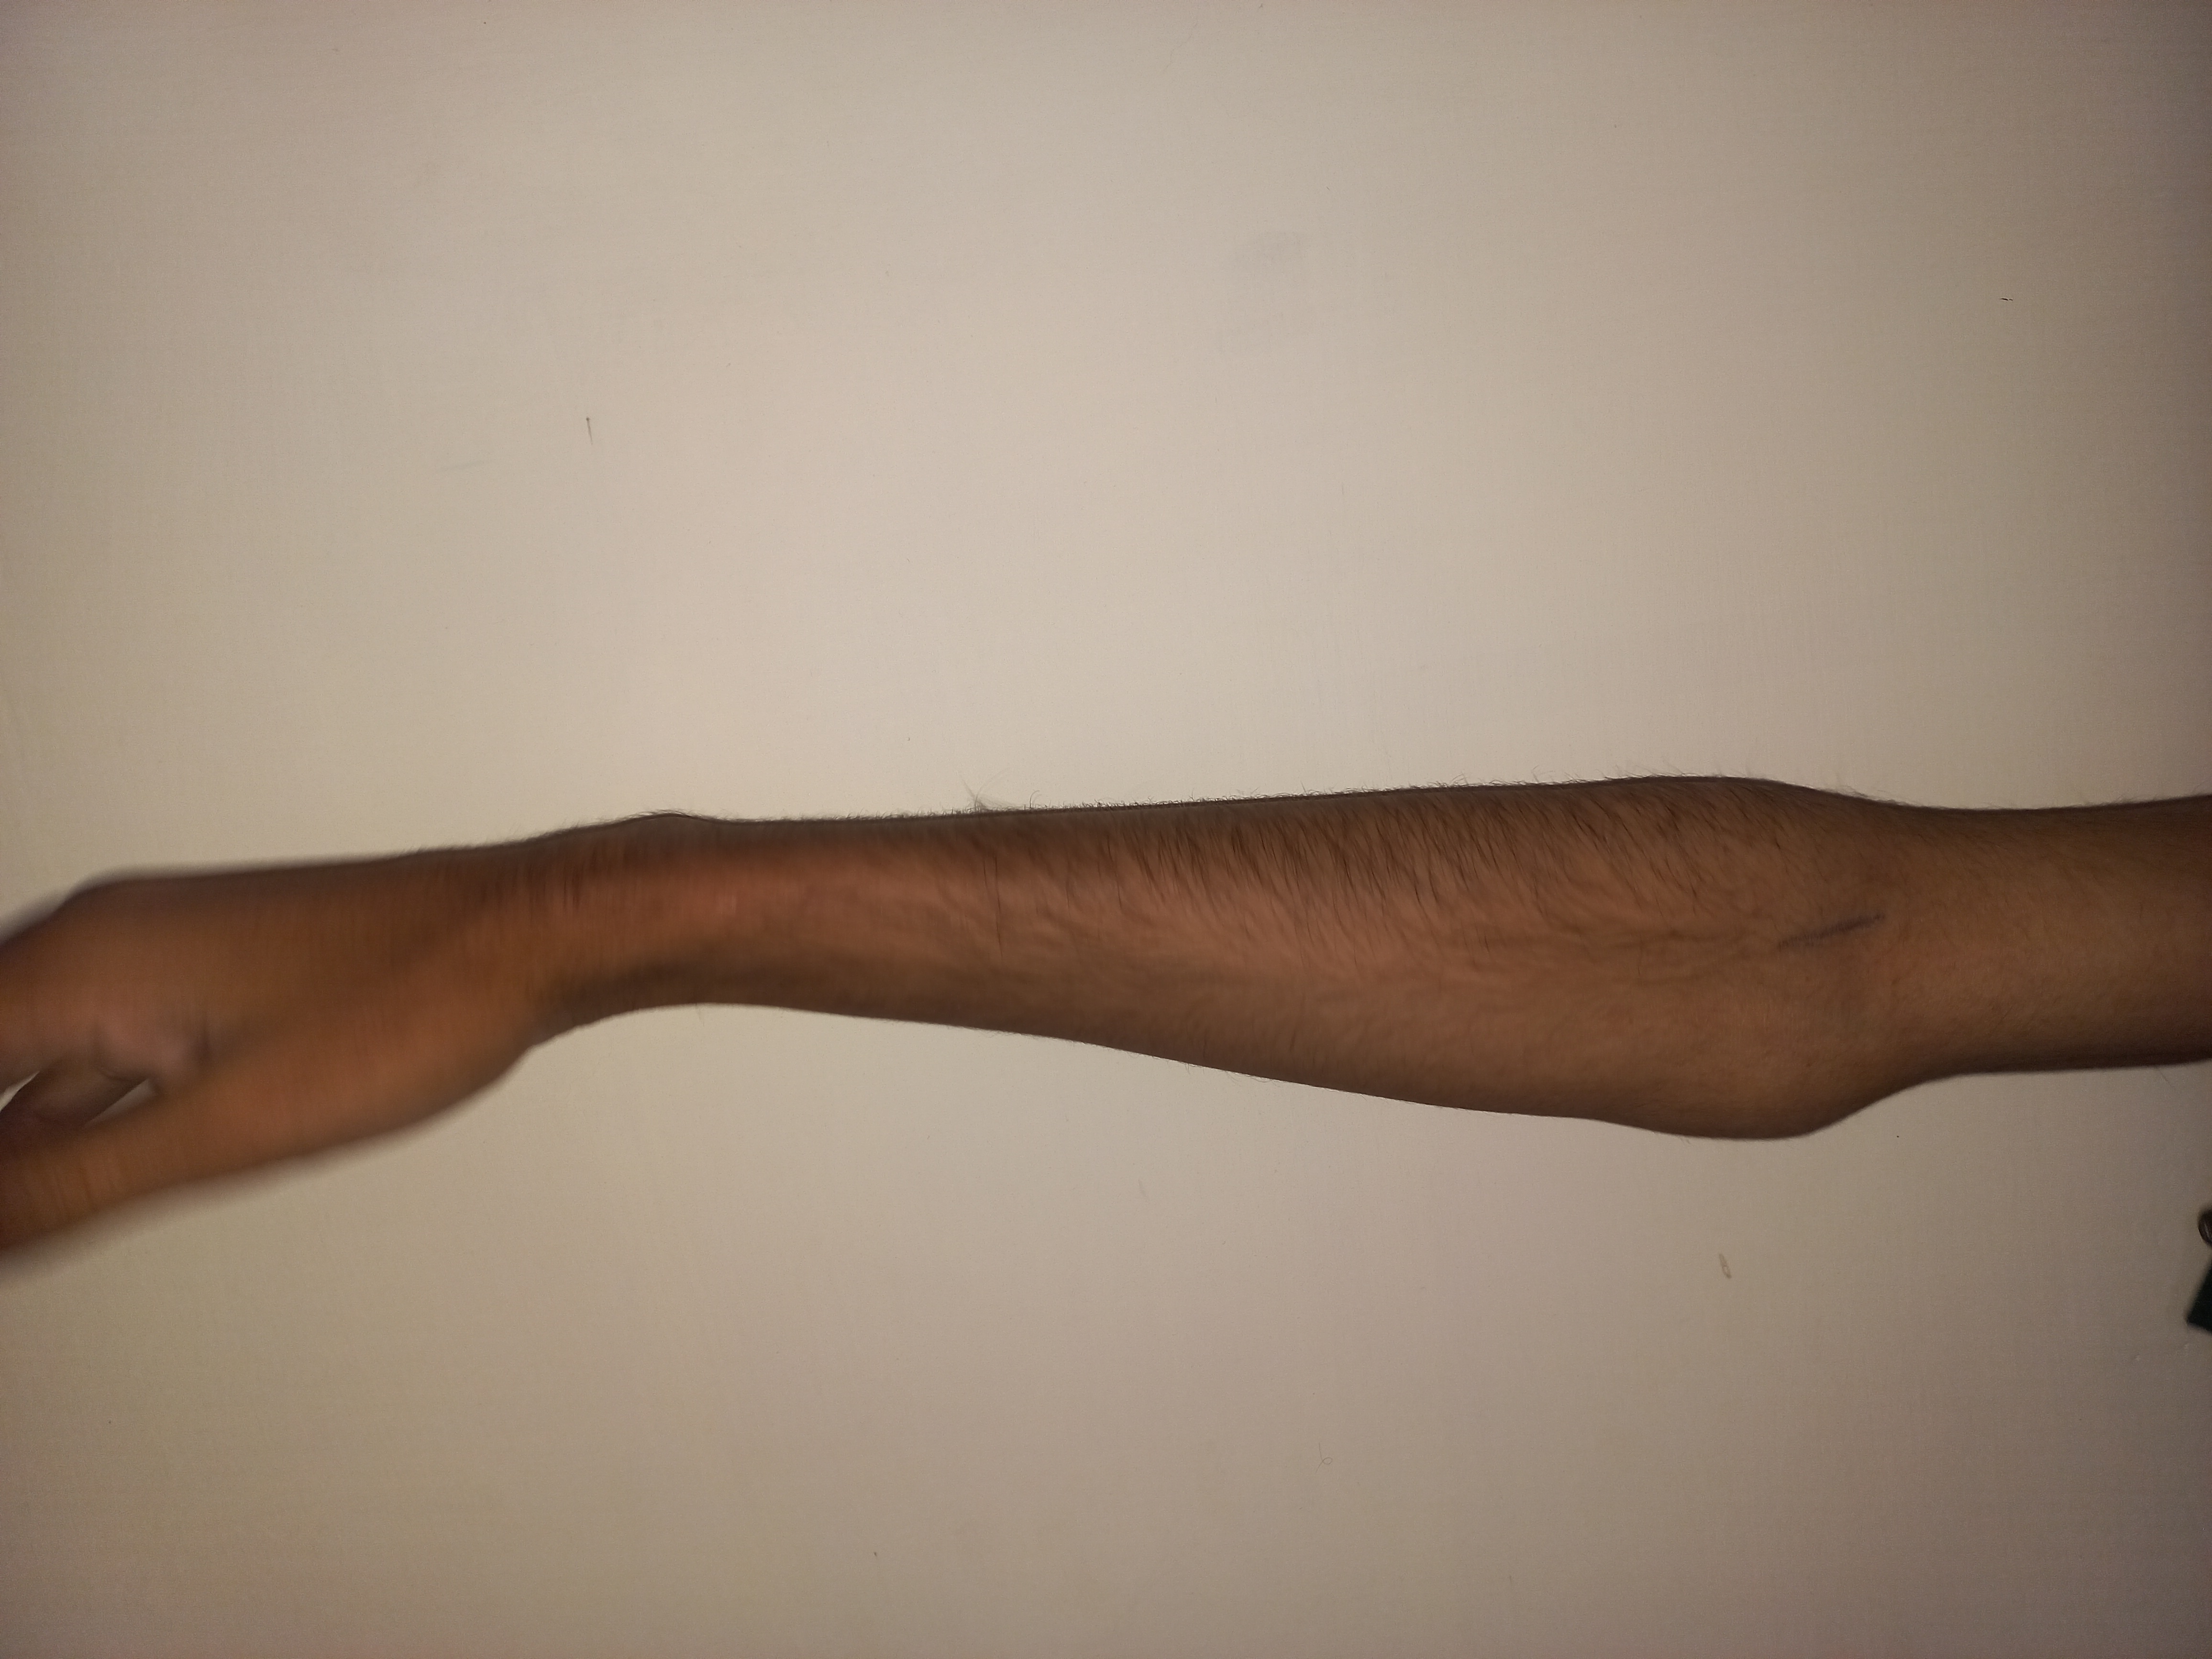vein: (1757, 892, 1893, 965)
